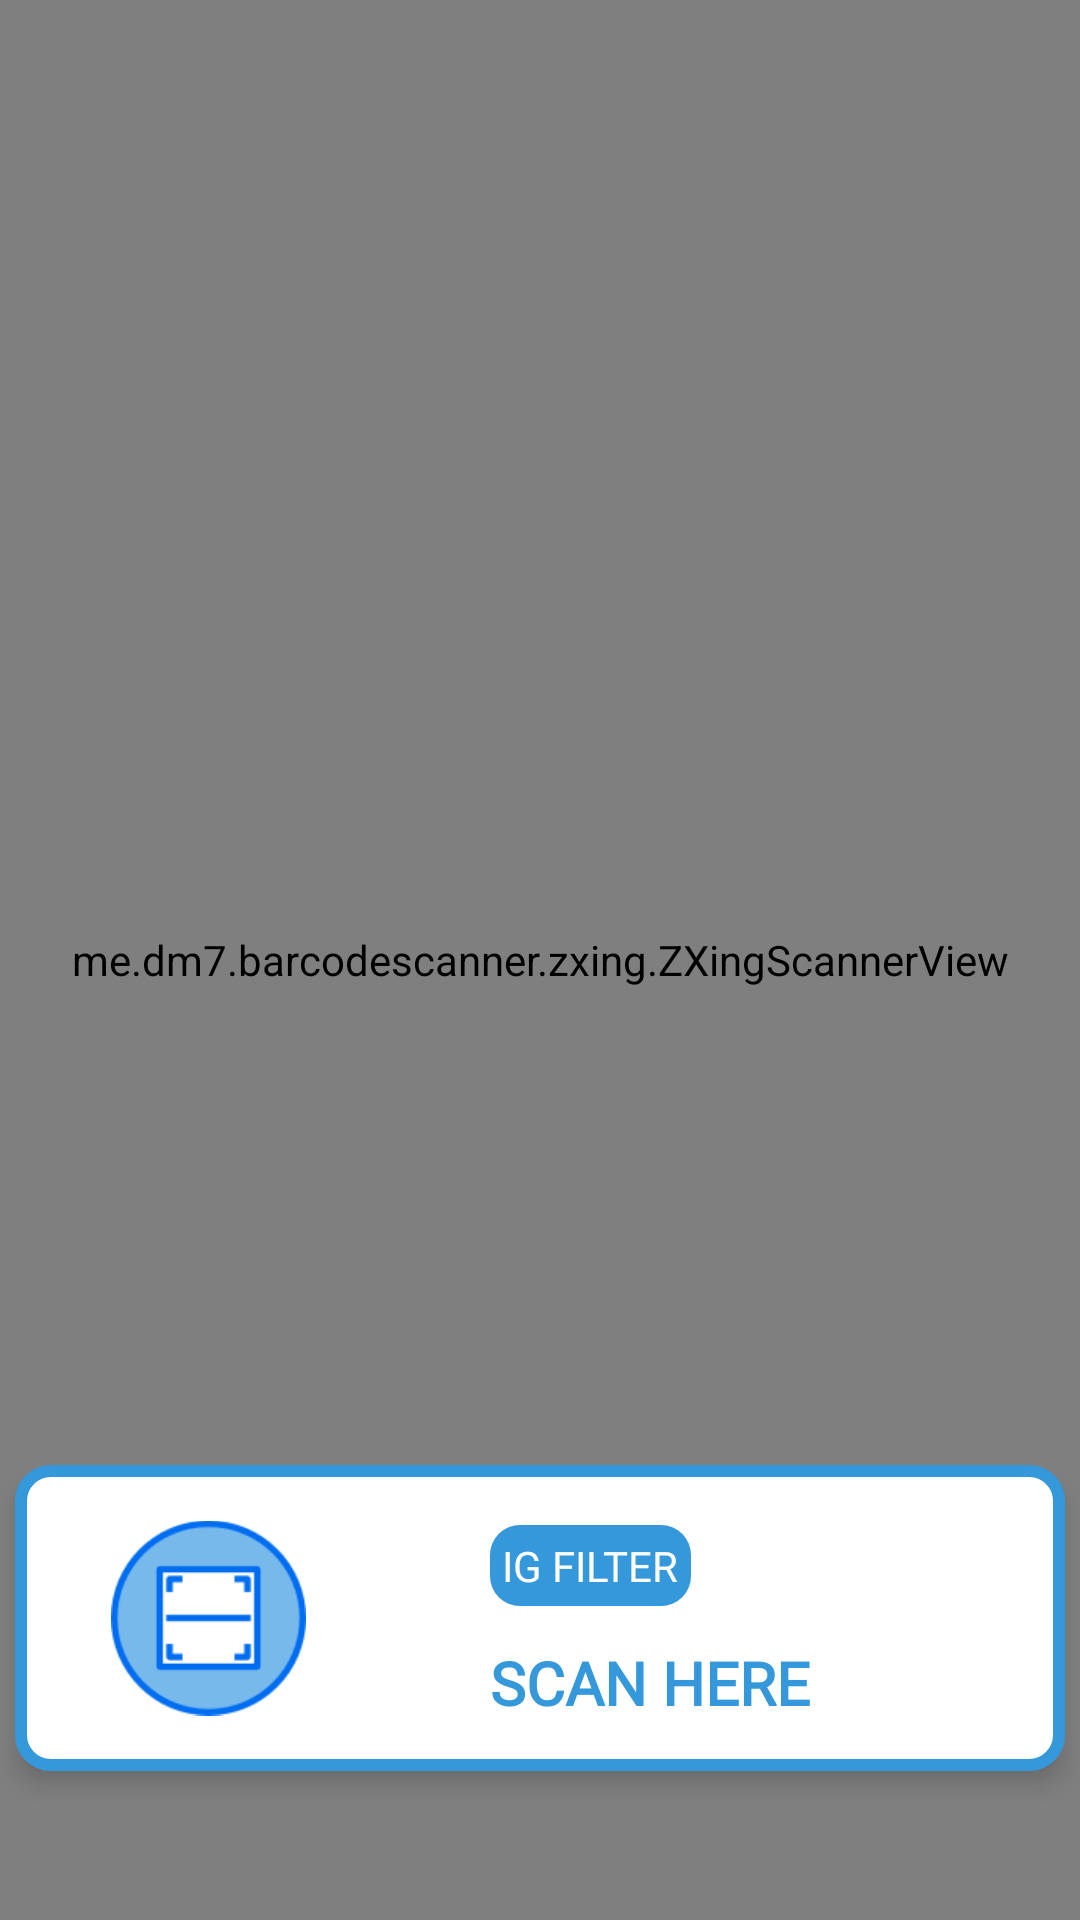

Icons on this 1080px×1920px Android screen, each with the point to tap as point (x, y):
qricon: point (208, 1618)
